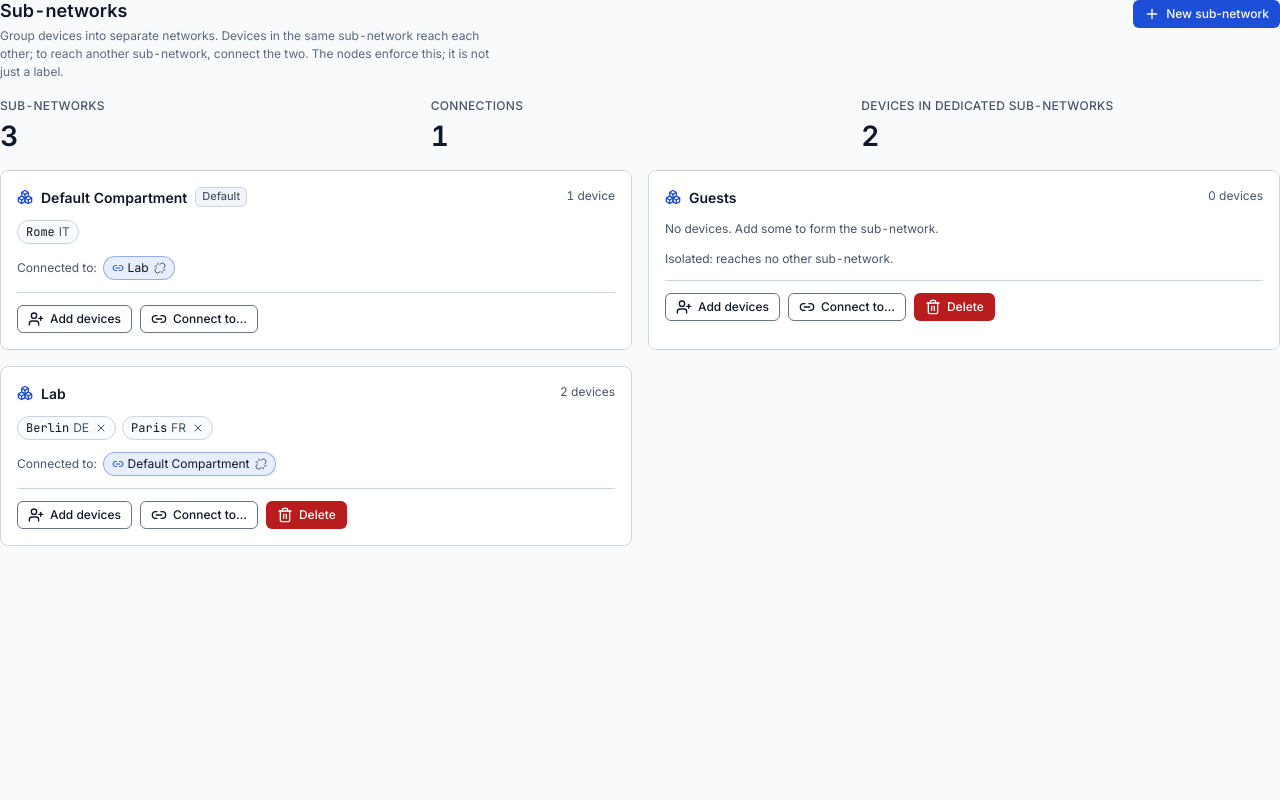
it: Sub-networks page › refuses to create a sub-network without a name
Expected: the element "Lab" is shown, [17,382,615,528]
Click the button "New sub-network" at (1207, 14), box [1133,0,1279,28]
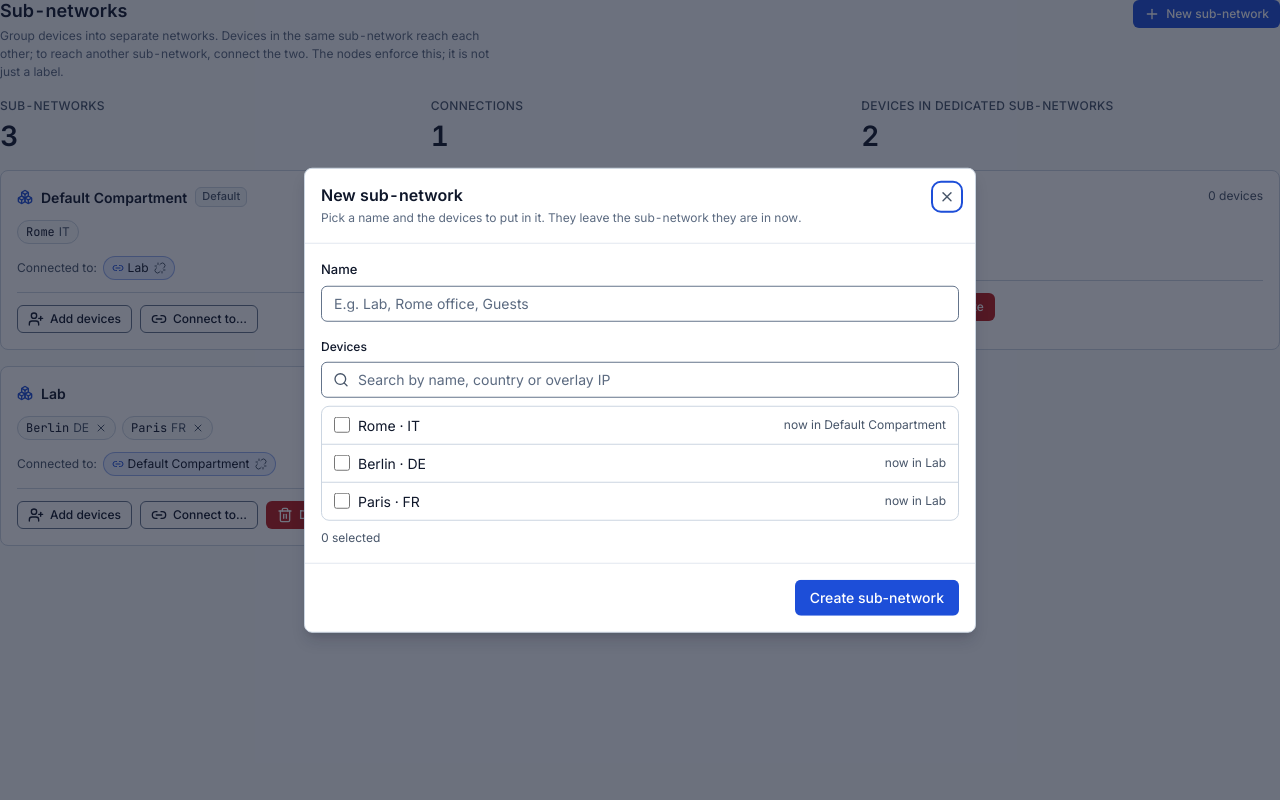
Click the button "Create sub-network" at (877, 597), box [795,579,959,615]
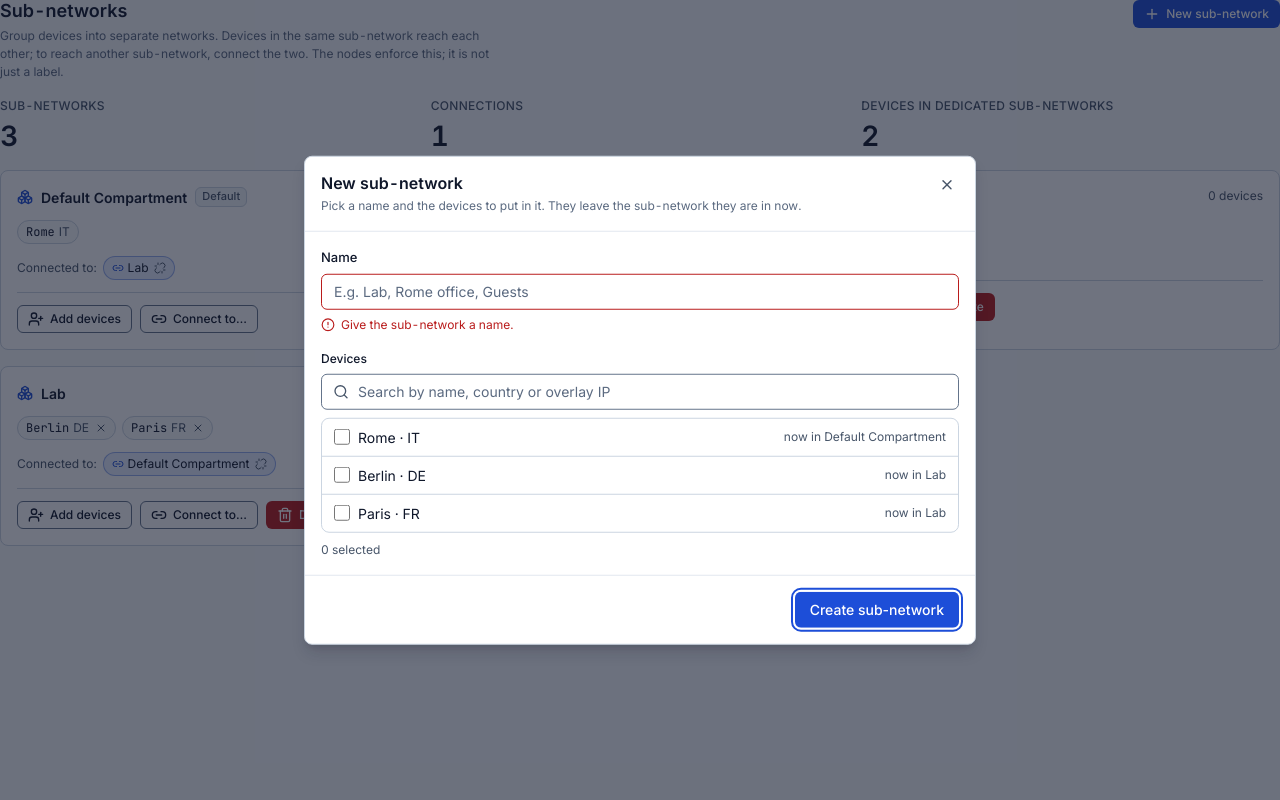
Expected: the text "Give the sub-network a name." is shown, [341,315,513,333]
